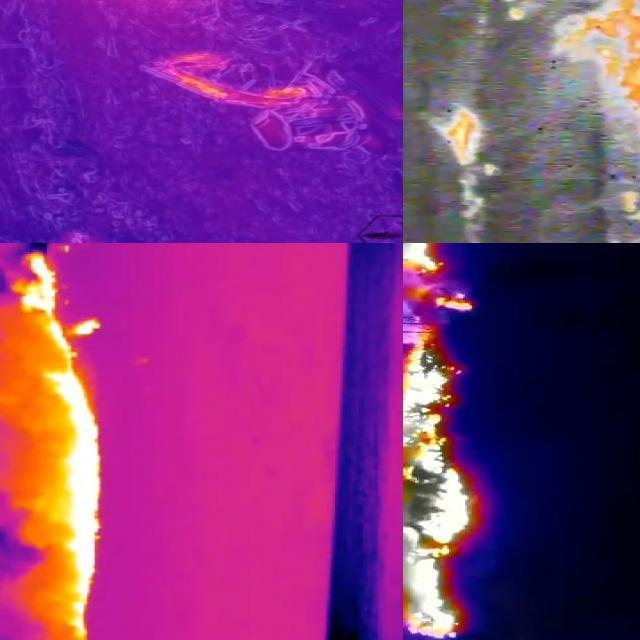fire: (1, 248, 109, 640), (404, 283, 479, 640), (556, 1, 640, 244), (443, 108, 487, 168), (486, 1, 532, 20)
